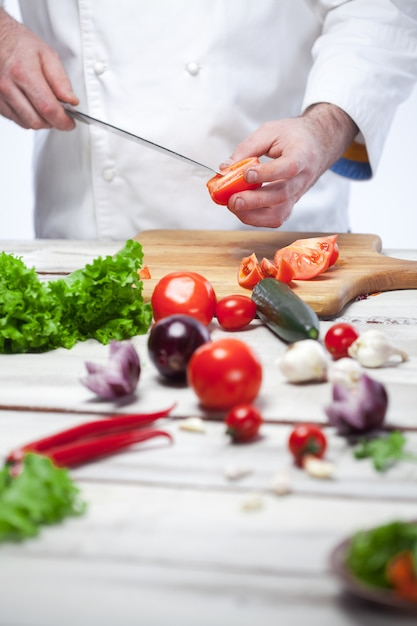knife: (61, 98, 226, 179)
